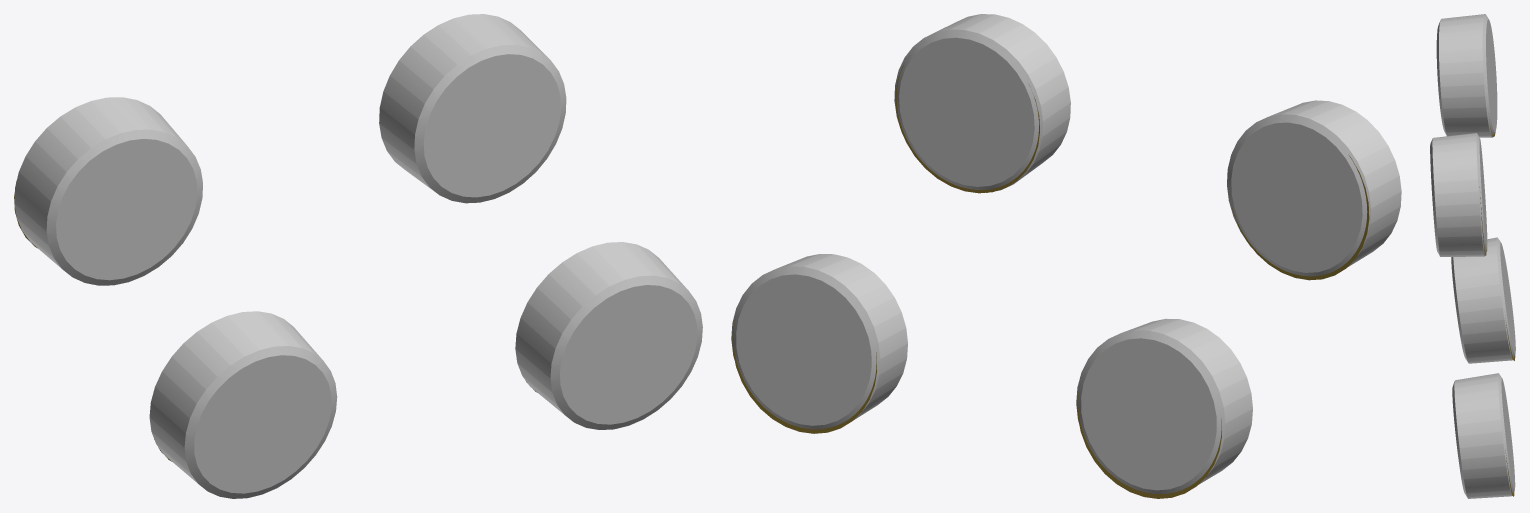
The picture shows the model from 3 angles, left to right: view 1: azimuth 30°, elevation 25°; view 2: azimuth 150°, elevation 25°; view 3: azimuth 270°, elevation 25°; orthographic projection. The views are drawn at different scales.
Parts seen in each view (by area): view 1: transp-knob, transp-knob_002, transp-knob_003, transp-knob_004; view 2: transp-knob_004, transp-knob_003, transp-knob_002, transp-knob, knob_004, knob_003, knob, knob_002; view 3: transp-knob, transp-knob_003, transp-knob_002, transp-knob_004.
Part boxes in pixels (x1,y1,x2,y2): transp-knob: [14, 97, 202, 285]; transp-knob_002: [379, 14, 566, 203]; transp-knob_003: [515, 242, 702, 429]; transp-knob_004: [149, 311, 337, 498]; transp-knob_004: [1076, 318, 1252, 493]; transp-knob_003: [731, 254, 907, 429]; transp-knob_002: [894, 14, 1070, 192]; transp-knob: [1227, 100, 1401, 276]; knob_004: [1077, 384, 1221, 498]; knob_003: [732, 318, 876, 433]; knob: [1229, 155, 1369, 280]; knob_002: [895, 55, 1039, 193]; transp-knob: [1436, 14, 1497, 137]; transp-knob_003: [1452, 373, 1515, 498]; transp-knob_002: [1430, 133, 1487, 256]; transp-knob_004: [1451, 237, 1515, 363].
Bounding box in the file's own units: 11.22 × 1.83 × 7.15.
